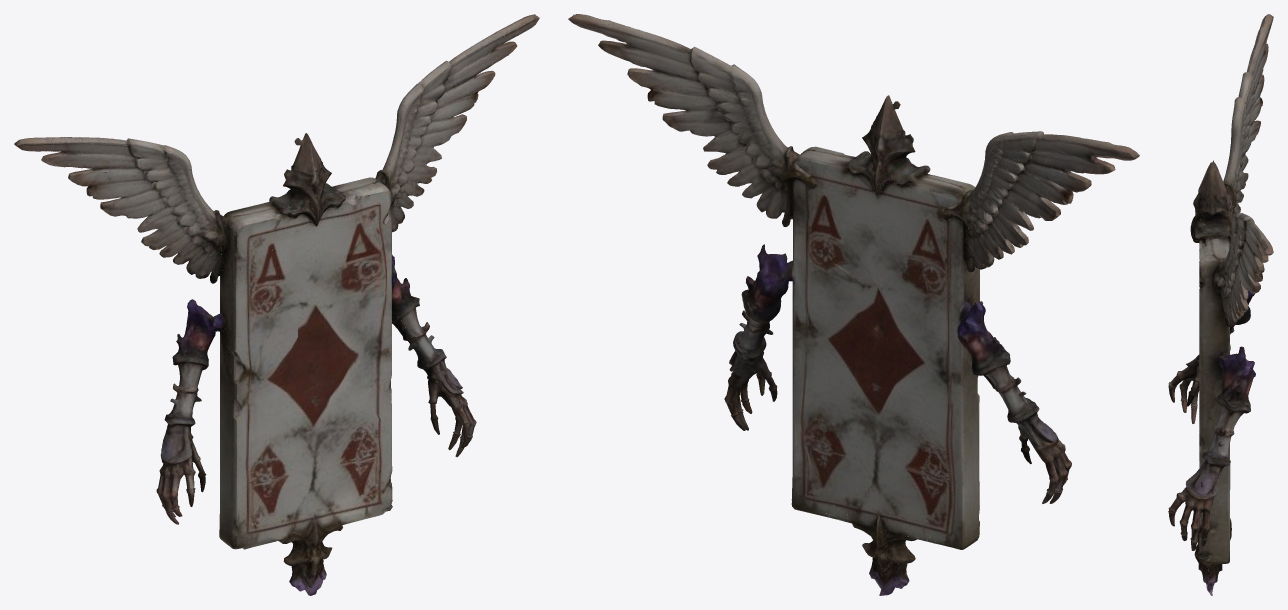
The model's file is mob-carta.glb.
3 renders of one model, left to right at view 1: azimuth 30°, elevation 25°; view 2: azimuth 150°, elevation 25°; view 3: azimuth 270°, elevation 25°, orthographic. The views are drawn at different scales.
Visible parts, largest first — view 1: node_0; view 2: node_0; view 3: node_0.
Part boxes in pixels (x1,y1,x2,y2): node_0: (14,14,539,595); node_0: (568,14,1139,595); node_0: (1168,14,1273,595).
Bounding box in the file's own units: 0.8895 × 0.8067 × 0.1665.
Materials: 1 (1 with a texture image).
